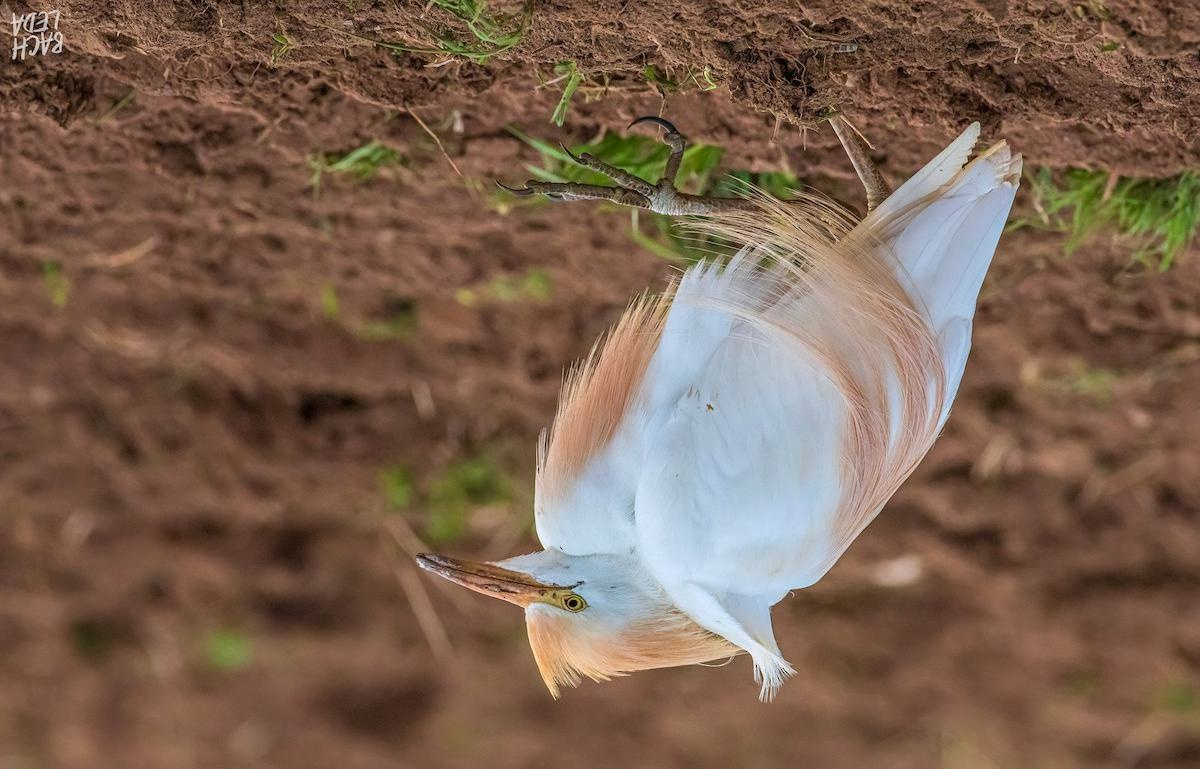egret: (418, 142, 1060, 701)
